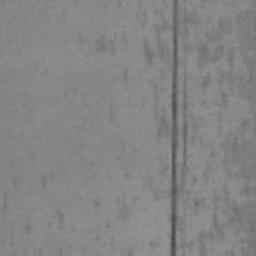Scratches: (171, 0, 178, 256), (182, 64, 188, 188)
